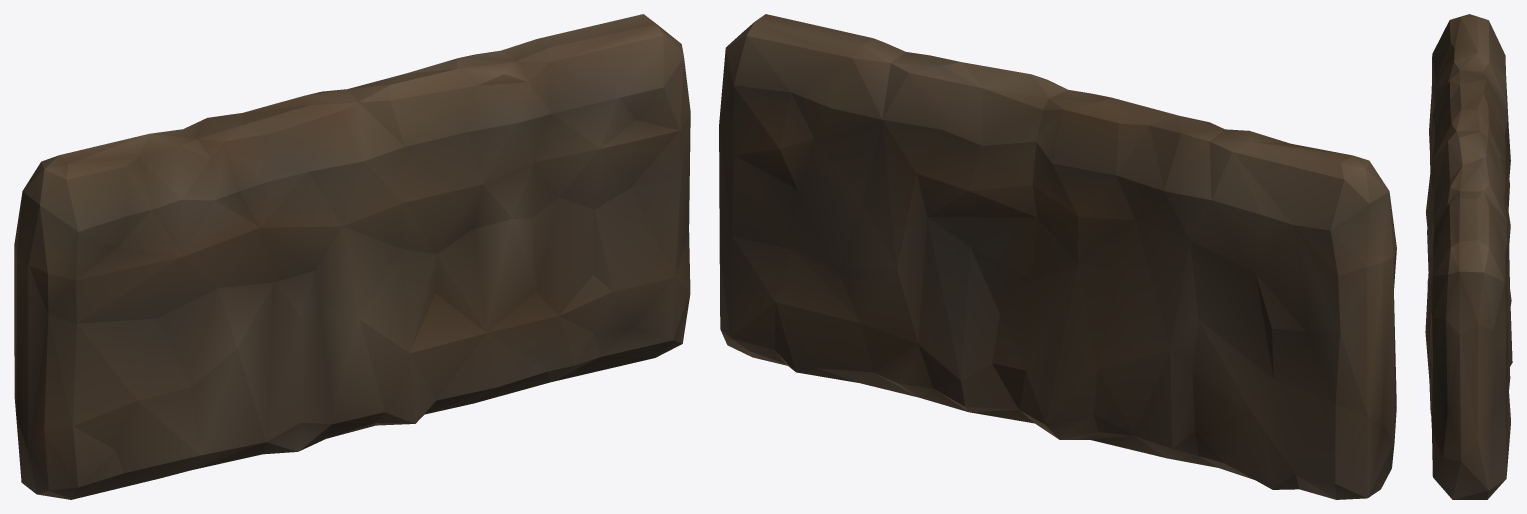
Rendered from palisade.glb.
3 renders of one model, left to right at view 1: azimuth 30°, elevation 25°; view 2: azimuth 150°, elevation 25°; view 3: azimuth 270°, elevation 25°, orthographic. The views are drawn at different scales.
Parts seen in each view (by area): view 1: model.001; view 2: model.001; view 3: model.001.
Boxes of the visible parts, x1,y1,x2,y2 form: model.001: (14,14,690,499); model.001: (719,14,1396,499); model.001: (1425,14,1512,499).
Size of the model in its own units: 1.04 by 0.5039 by 0.1528.
